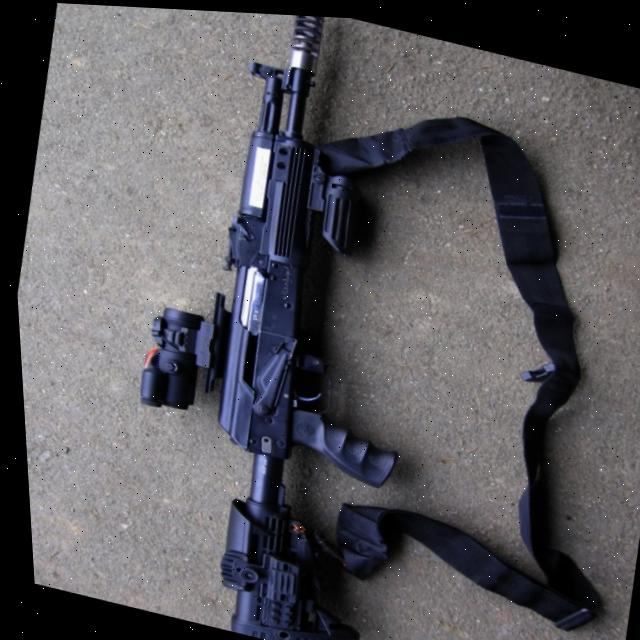firearm: (73, 3, 484, 640)
